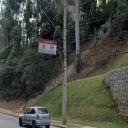speed_limit_40: (50, 45, 54, 50)
